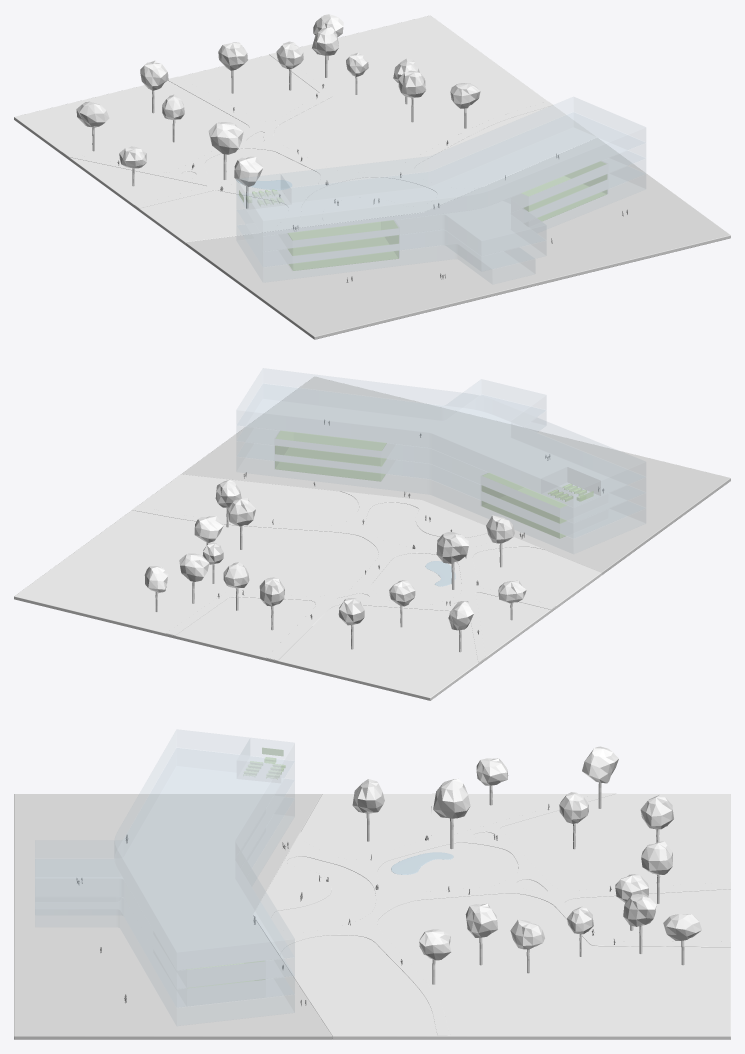
Rendered from campus.gltf.
3 views of the same model, one above another, from view 1: azimuth 30°, elevation 25°; view 2: azimuth 150°, elevation 25°; view 3: azimuth 270°, elevation 25° (orthographic). The views are drawn at different scales.
Parts seen in each view (by area): view 1: park, building_base, floor_2, floor_3, floor_1, paths_Retopo, floor_0, room2, room1, corner_room, tree010, tree013 (+9 smaller); view 2: park, building_base, floor_2, floor_3, floor_0, paths_Retopo, floor_1, room1, room2, corner_room, tree010, tree01 (+11 smaller); view 3: park, building_base, floor_2, floor_3, paths_Retopo, floor_1, floor_0, corner_room, tree010, tree012, tree005, tree01 (+12 smaller).
Boxes of the visible parts, left/top/right/bottom form: park: left=14, top=15, right=596, bottom=244; building_base: left=185, top=138, right=730, bottom=339; floor_2: left=237, top=113, right=645, bottom=255; floor_3: left=247, top=97, right=645, bottom=235; floor_1: left=237, top=151, right=645, bottom=270; paths_Retopo: left=62, top=52, right=552, bottom=232; floor_0: left=237, top=166, right=645, bottom=283; room2: left=288, top=220, right=398, bottom=270; room1: left=521, top=161, right=606, bottom=221; corner_room: left=237, top=174, right=290, bottom=209; tree010: left=208, top=122, right=243, bottom=179; tree013: left=234, top=156, right=263, bottom=208; park: left=14, top=474, right=601, bottom=700; building_base: left=181, top=376, right=730, bottom=574; floor_2: left=237, top=379, right=645, bottom=522; floor_3: left=237, top=368, right=645, bottom=495; floor_0: left=237, top=443, right=645, bottom=553; paths_Retopo: left=132, top=491, right=555, bottom=662; floor_1: left=237, top=395, right=645, bottom=537; room1: left=275, top=431, right=386, bottom=481; room2: left=482, top=473, right=566, bottom=538; corner_room: left=541, top=467, right=600, bottom=506; tree010: left=436, top=532, right=468, bottom=589; tree01: left=179, top=553, right=209, bottom=603; park: left=271, top=794, right=730, bottom=1039; building_base: left=14, top=794, right=332, bottom=1039; floor_2: left=35, top=748, right=294, bottom=988; floor_3: left=115, top=730, right=294, bottom=969; paths_Retopo: left=253, top=793, right=730, bottom=1035; floor_1: left=35, top=779, right=294, bottom=1006; floor_0: left=35, top=798, right=294, bottom=1025; corner_room: left=237, top=738, right=294, bottom=782; tree010: left=433, top=778, right=470, bottom=849; tree012: left=582, top=746, right=618, bottom=808; tree005: left=465, top=903, right=497, bottom=965; tree01: left=623, top=894, right=656, bottom=953.
Bounding box in the file's own units: 2.8 × 0.42 × 3.5.
Materials: 7 (2 with a texture image).
